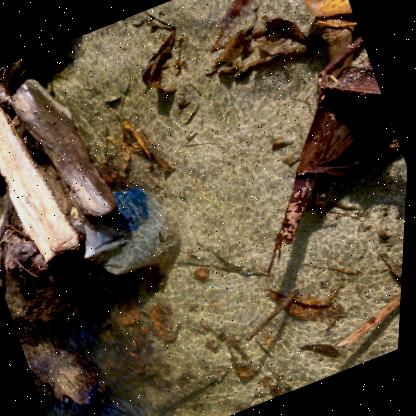Plastic: (86, 187, 182, 274)
